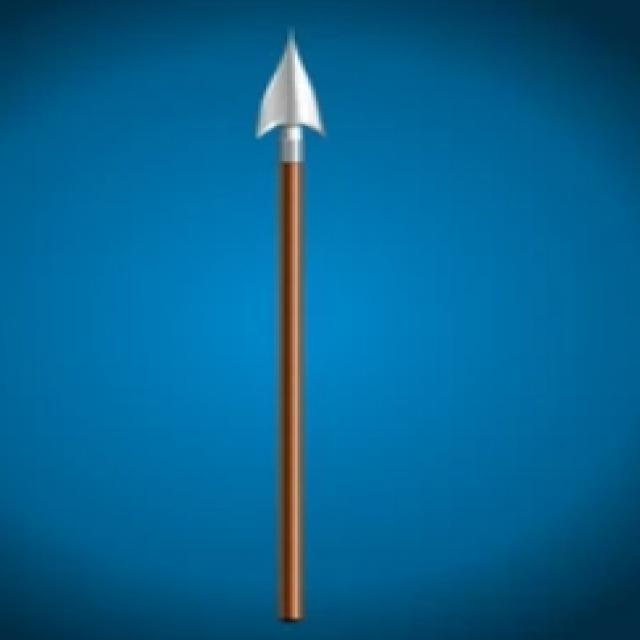spear: (240, 25, 355, 626)
